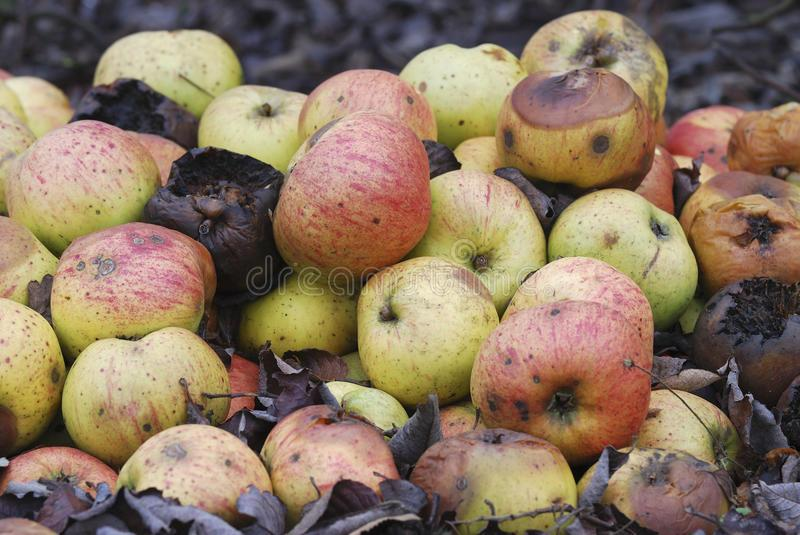apple: (473, 298, 651, 464), (271, 112, 432, 281), (59, 327, 230, 466), (534, 190, 696, 328), (351, 264, 498, 413), (50, 222, 217, 351), (5, 121, 160, 247), (413, 168, 546, 312), (409, 426, 576, 529)
